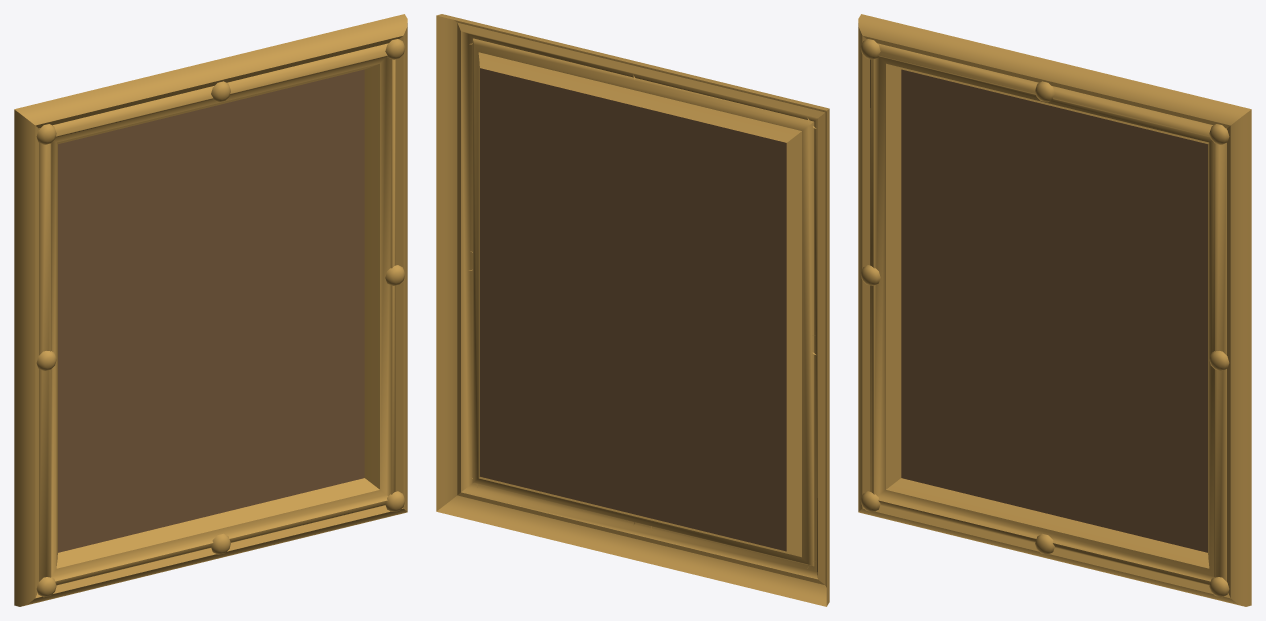
File: frame_1_1x1_4.glb
3 renders of one model, left to right at view 1: azimuth 30°, elevation 25°; view 2: azimuth 150°, elevation 25°; view 3: azimuth 330°, elevation 25°, orthographic.
Parts seen in each view (by area): view 1: frame_1_1x1_4_canvas, frame_1_1x1_4_frame; view 2: frame_1_1x1_4_canvas, frame_1_1x1_4_frame; view 3: frame_1_1x1_4_canvas, frame_1_1x1_4_frame.
Boxes of the visible parts, x1,y1,x2,y2 form: frame_1_1x1_4_canvas: (58,69,364,552); frame_1_1x1_4_frame: (14,14,407,606); frame_1_1x1_4_canvas: (480,68,786,551); frame_1_1x1_4_frame: (436,14,829,606); frame_1_1x1_4_canvas: (901,69,1207,552); frame_1_1x1_4_frame: (858,14,1251,606).
Bounding box in the file's own units: 1.4 × 1.7 × 0.093.
